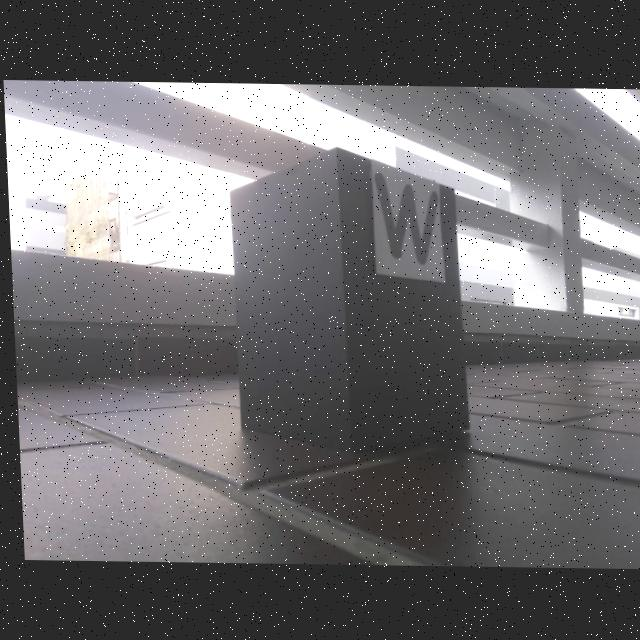W: (372, 170, 438, 265)
